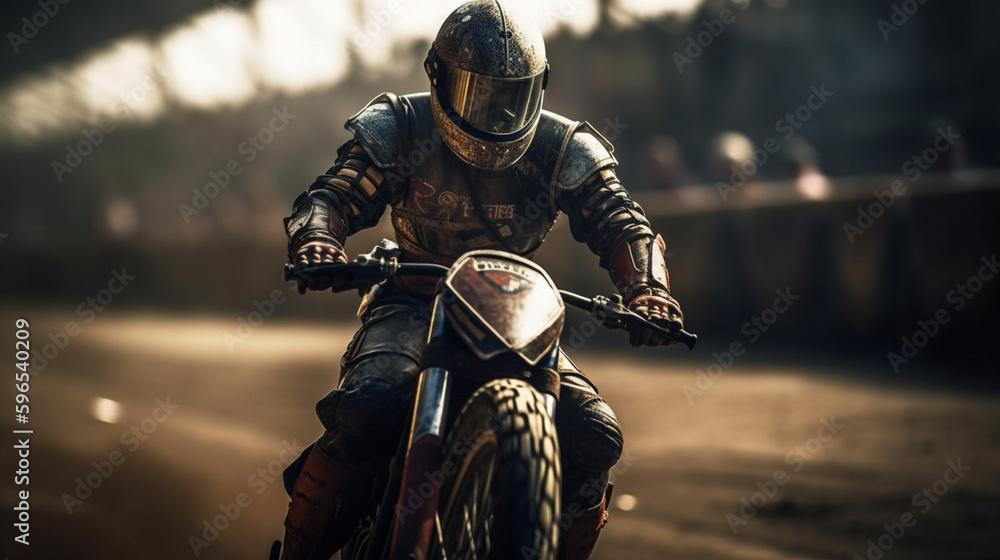helmet: (423, 0, 551, 173)
